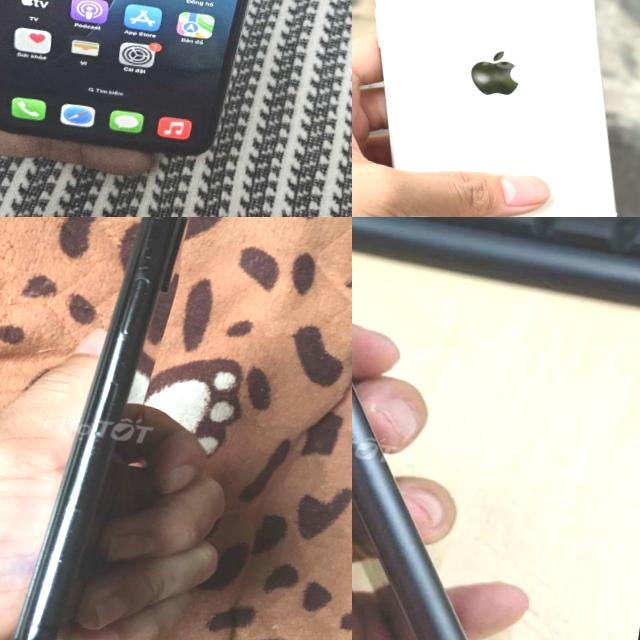gen_11: (352, 217, 603, 640)
gen_12_13: (352, 0, 640, 217)
gen_x_xs: (13, 217, 186, 640), (0, 0, 304, 172)
scratch: (77, 423, 116, 514), (40, 509, 86, 584)
